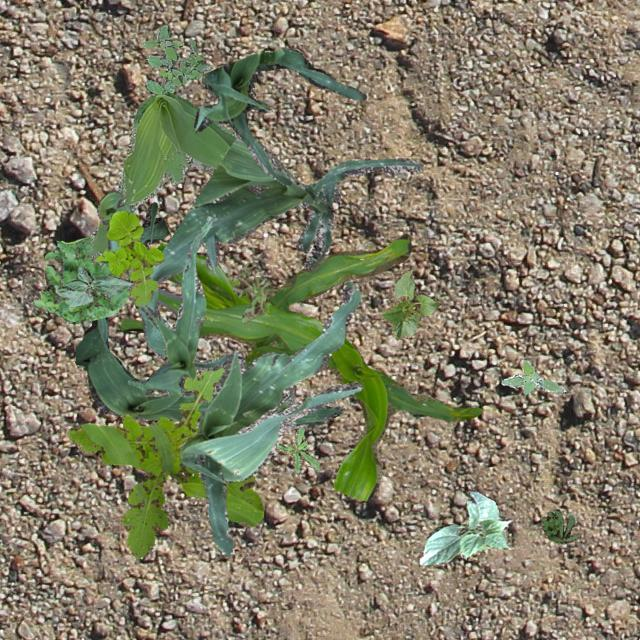crop: (120, 235, 480, 500), (180, 279, 360, 556), (148, 134, 422, 284), (74, 316, 342, 426), (192, 48, 366, 184), (127, 220, 230, 393), (96, 190, 168, 356), (418, 488, 512, 564), (380, 268, 440, 339), (56, 266, 132, 306)
weed: (68, 352, 262, 558), (87, 90, 295, 256), (33, 236, 128, 322), (92, 210, 162, 306), (140, 24, 208, 92), (232, 260, 276, 322), (500, 359, 564, 394), (276, 426, 318, 472), (540, 508, 580, 542)
